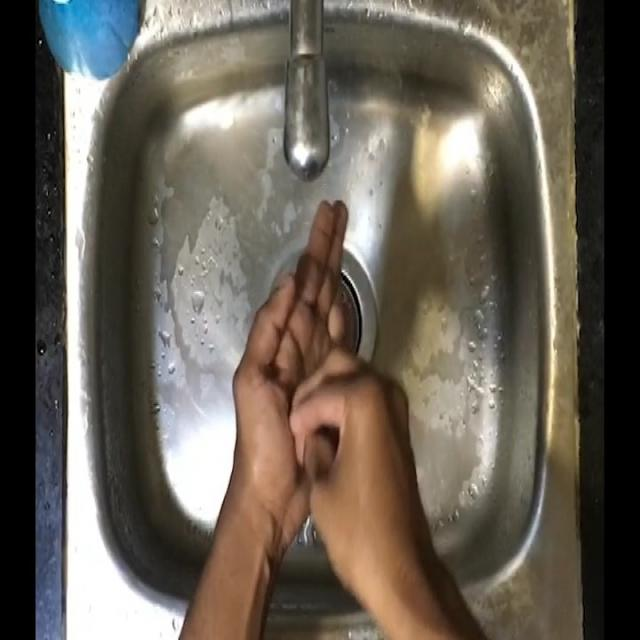step_6: (220, 198, 430, 560)
